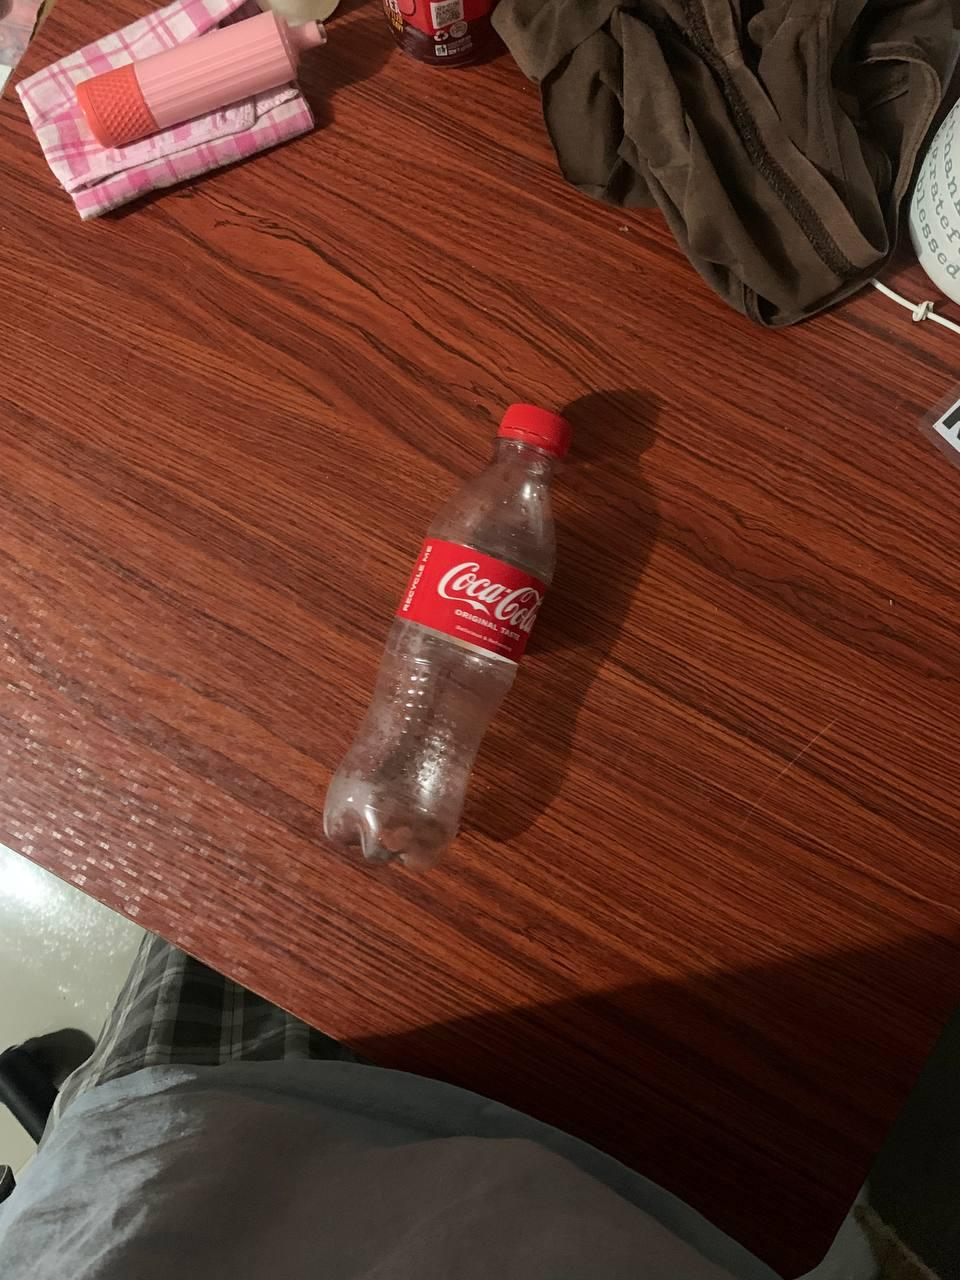plastic: (265, 364, 642, 932)
